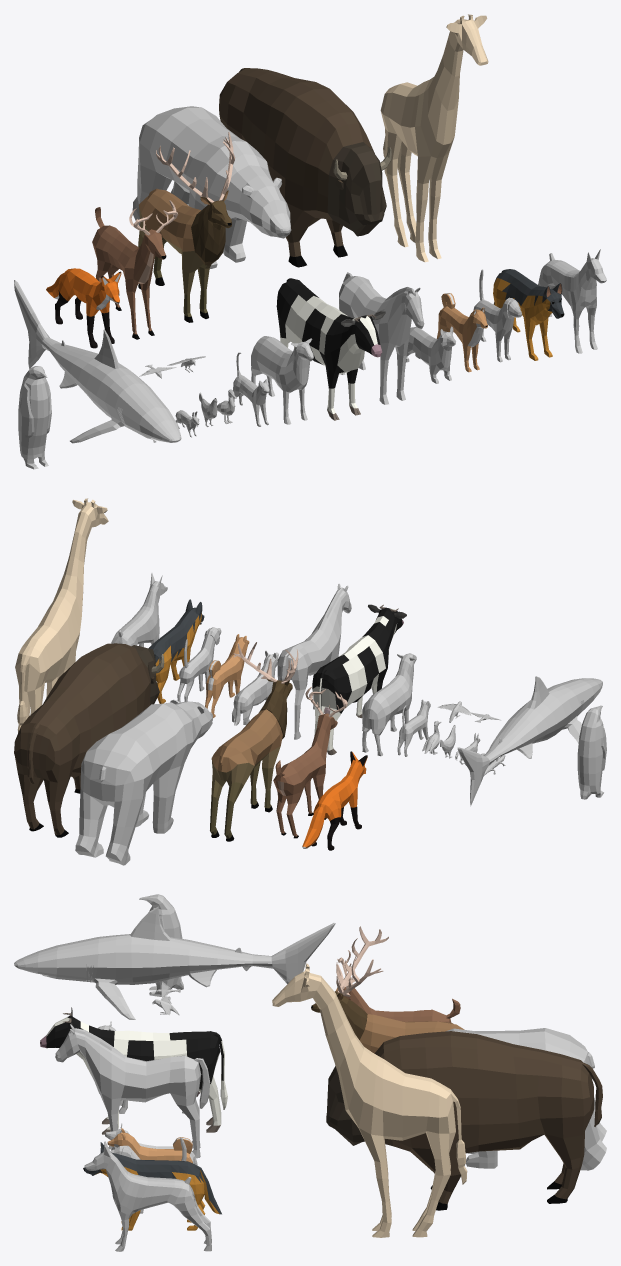
The model's file is AllAnimalsnotOne1Point.obj.
3 views of the same model, one above another, from view 1: azimuth 30°, elevation 25°; view 2: azimuth 150°, elevation 25°; view 3: azimuth 270°, elevation 25° (orthographic). The views are drawn at different scales.
Parts seen in each view (by area): view 1: 04bizonFinal_Plane.171, 08bearFinal_Plane.179, 18girafFinal_Plane.185, 07sharkFinal_Plane.177, 09deerFinal_Plane.188, 13cowFinal_Plane.192, 17horseFinal_Cube.009, 05deerFinal_Plane.173, 10sheepFinal_Plane.152, 25dogFinal_Plane.184, 12dogFinal_Plane.190, 01foxFinal_Plane.164 (+5 smaller); view 2: 04bizonFinal_Plane.171, 08bearFinal_Plane.179, 18girafFinal_Plane.185, 09deerFinal_Plane.188, 07sharkFinal_Plane.177, 13cowFinal_Plane.192, 05deerFinal_Plane.173, 17horseFinal_Cube.009, 10sheepFinal_Plane.152, 01foxFinal_Plane.164, 06penguinFinal_Plane.175, 25dogFinal_Plane.184 (+5 smaller); view 3: 04bizonFinal_Plane.171, 18girafFinal_Plane.185, 07sharkFinal_Plane.177, 17horseFinal_Cube.009, 13cowFinal_Plane.192, 12dogFinal_Plane.190, 08bearFinal_Plane.179, 09deerFinal_Plane.188, 25dogFinal_Plane.184, 05deerFinal_Plane.173, 19dogFinal_Plane.181, 06penguinFinal_Plane.175.
Boxes of the visible parts, bbox=[...] form: 04bizonFinal_Plane.171: bbox=[219, 68, 391, 267]; 08bearFinal_Plane.179: bbox=[132, 106, 291, 268]; 18girafFinal_Plane.185: bbox=[380, 14, 488, 262]; 07sharkFinal_Plane.177: bbox=[14, 280, 181, 443]; 09deerFinal_Plane.188: bbox=[138, 132, 235, 322]; 13cowFinal_Plane.192: bbox=[276, 278, 385, 420]; 17horseFinal_Cube.009: bbox=[339, 272, 424, 404]; 05deerFinal_Plane.173: bbox=[92, 200, 177, 339]; 10sheepFinal_Plane.152: bbox=[251, 336, 313, 424]; 25dogFinal_Plane.184: bbox=[493, 269, 564, 360]; 12dogFinal_Plane.190: bbox=[538, 249, 606, 353]; 01foxFinal_Plane.164: bbox=[46, 268, 121, 348]; 04bizonFinal_Plane.171: bbox=[14, 643, 164, 837]; 08bearFinal_Plane.179: bbox=[75, 699, 212, 865]; 18girafFinal_Plane.185: bbox=[15, 498, 108, 732]; 09deerFinal_Plane.188: bbox=[210, 642, 298, 841]; 07sharkFinal_Plane.177: bbox=[457, 676, 602, 806]; 13cowFinal_Plane.192: bbox=[312, 604, 406, 755]; 05deerFinal_Plane.173: bbox=[273, 687, 347, 838]; 17horseFinal_Cube.009: bbox=[277, 583, 351, 739]; 10sheepFinal_Plane.152: bbox=[362, 653, 416, 756]; 01foxFinal_Plane.164: bbox=[302, 751, 367, 850]; 06penguinFinal_Plane.175: bbox=[577, 705, 606, 799]; 25dogFinal_Plane.184: bbox=[148, 599, 204, 703]; 04bizonFinal_Plane.171: bbox=[326, 1031, 602, 1210]; 18girafFinal_Plane.185: bbox=[272, 963, 467, 1237]; 07sharkFinal_Plane.177: bbox=[14, 906, 335, 1019]; 17horseFinal_Cube.009: bbox=[55, 1024, 210, 1158]; 13cowFinal_Plane.192: bbox=[40, 1007, 227, 1134]; 12dogFinal_Plane.190: bbox=[84, 1141, 211, 1251]; 08bearFinal_Plane.179: bbox=[446, 1028, 606, 1170]; 09deerFinal_Plane.188: bbox=[311, 926, 464, 1053]; 25dogFinal_Plane.184: bbox=[83, 1142, 221, 1230]; 05deerFinal_Plane.173: bbox=[337, 950, 460, 1022]; 19dogFinal_Plane.181: bbox=[107, 1128, 193, 1163]; 06penguinFinal_Plane.175: bbox=[139, 894, 183, 996].
Bounding box in the file's own units: 8.53 × 4.01 × 8.
